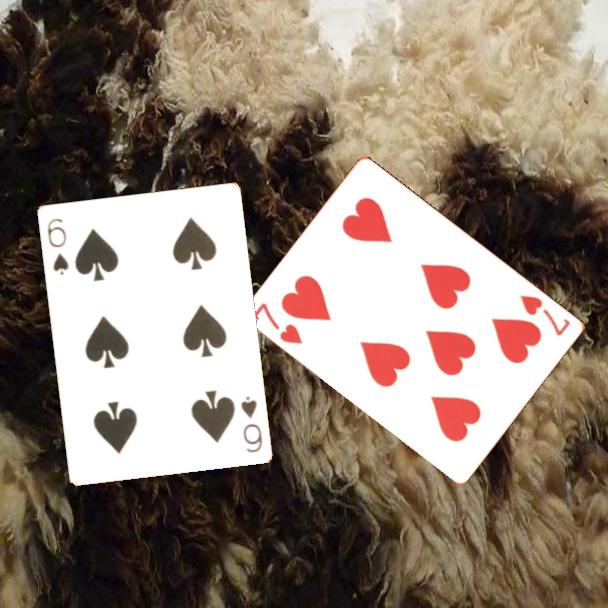h07: (517, 291, 574, 339), (249, 299, 306, 347)
s06: (237, 392, 265, 455), (43, 215, 71, 277)
